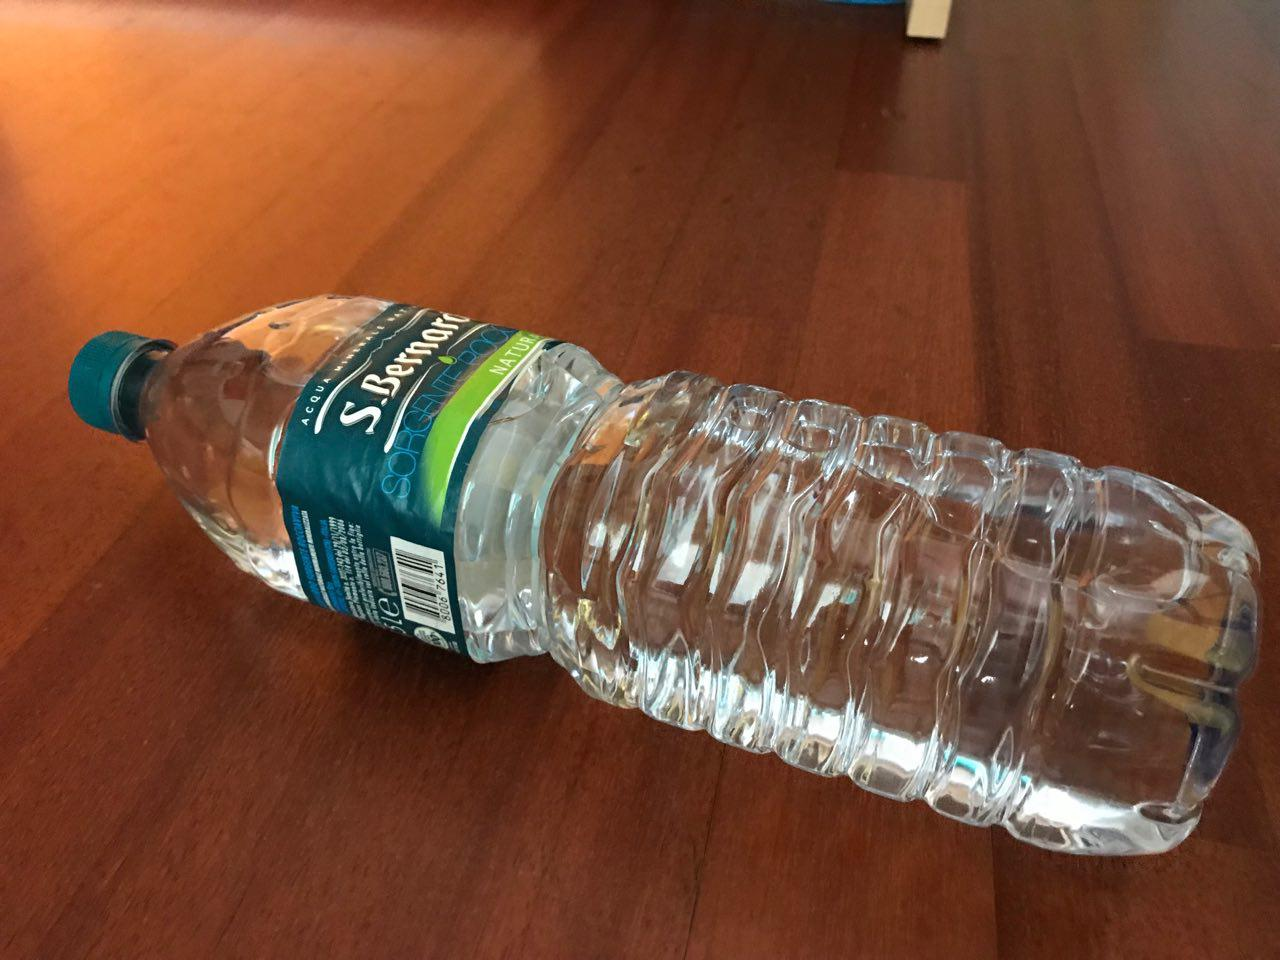san_bernardo: (65, 289, 1266, 864)
